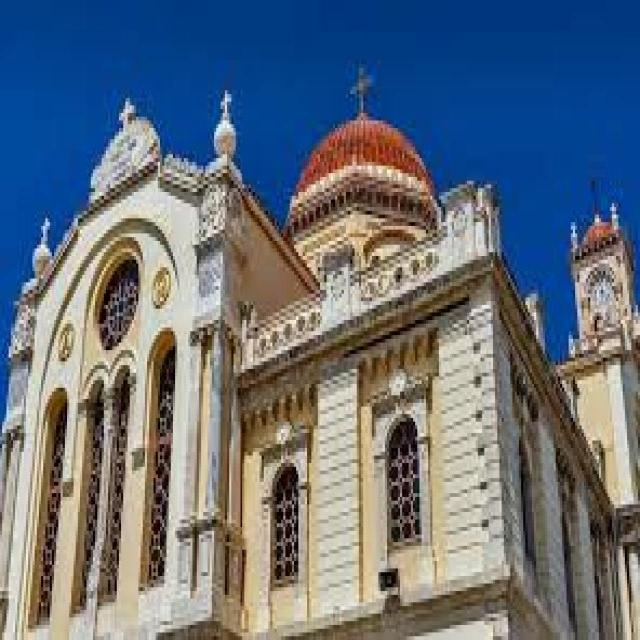Agios Minas: (1, 84, 640, 640)
